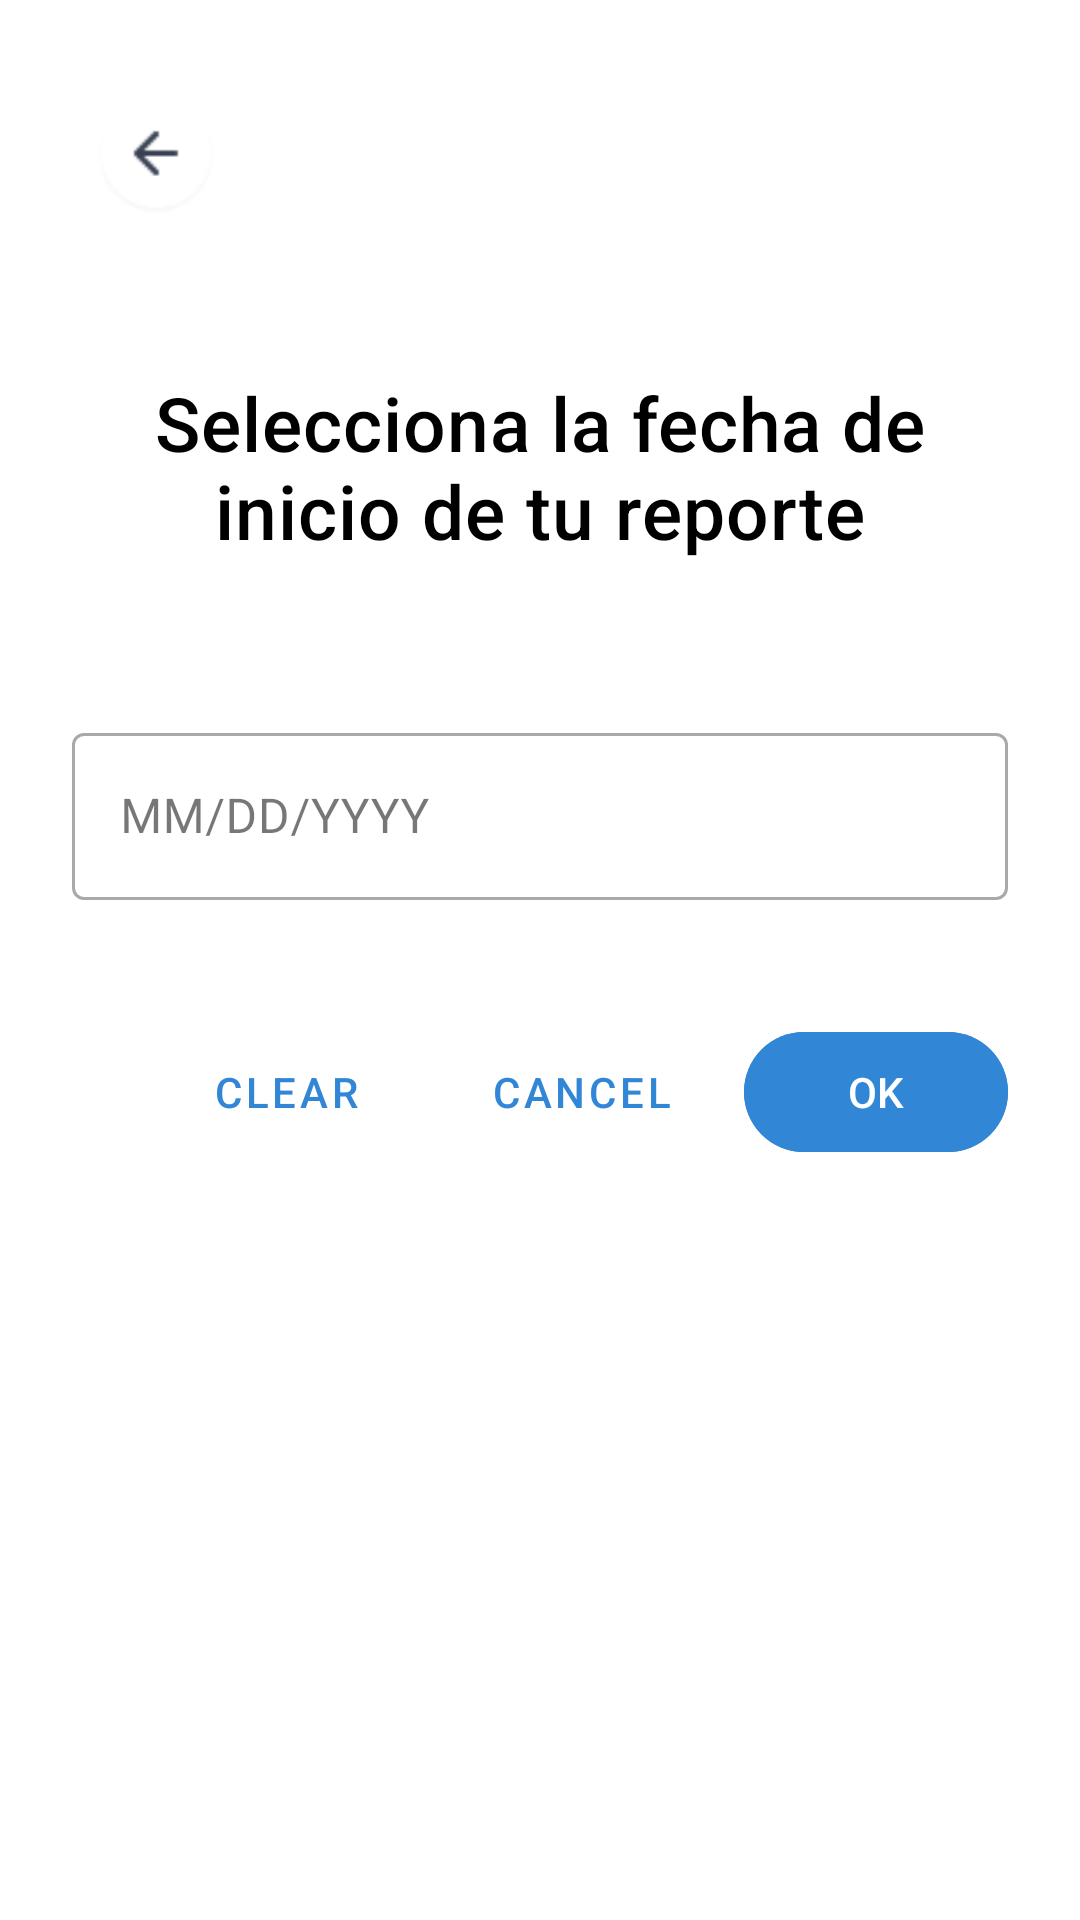

Point at icon controls on the screen. Image size 1080px×1920px, points as (x=x, y=y).
back: (x=156, y=153)
